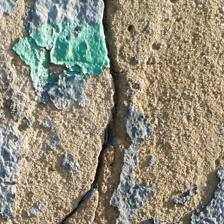Crack: (62, 3, 133, 224)
